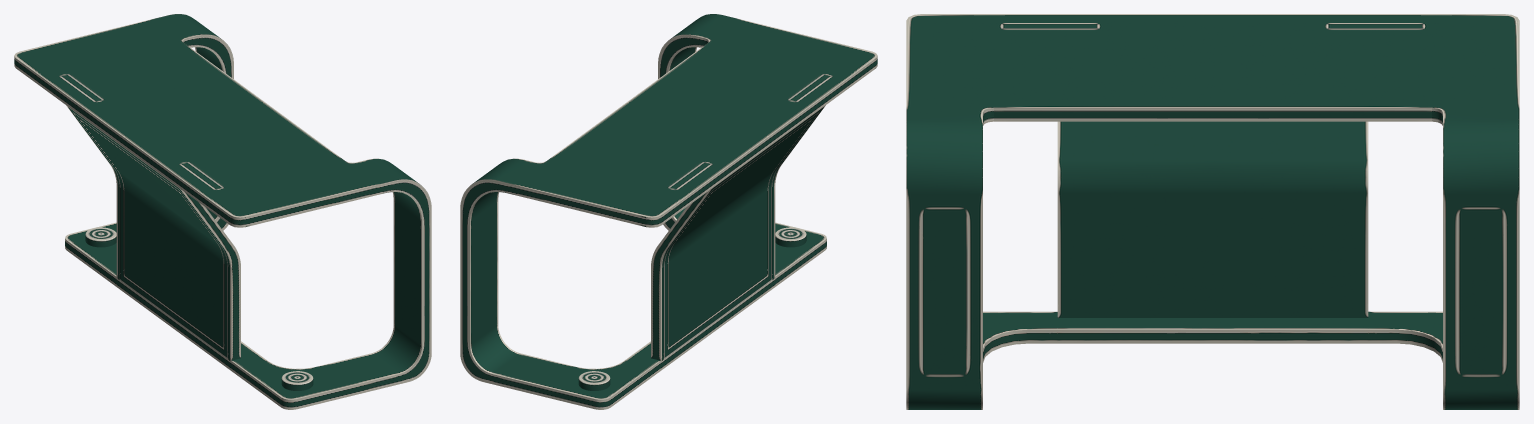
File: table.glb
The picture shows the model from 3 angles, left to right: view 1: azimuth 30°, elevation 25°; view 2: azimuth 150°, elevation 25°; view 3: azimuth 270°, elevation 25°; orthographic projection. The views are drawn at different scales.
Visible parts, largest first — view 1: table_low, puck_low, puck.001_low; view 2: table_low, puck.001_low, puck_low; view 3: table_low.
Part boxes in pixels (x1,y1,x2,y2): table_low: (14,14,431,409); puck_low: (281,371,313,390); puck.001_low: (85,227,116,247); table_low: (460,14,877,409); puck.001_low: (578,371,610,390); puck_low: (775,227,806,247); table_low: (906,14,1519,409).
Size of the model in its own units: 0.9091 by 0.9091 by 1.82.
1 material, 1 textured.
